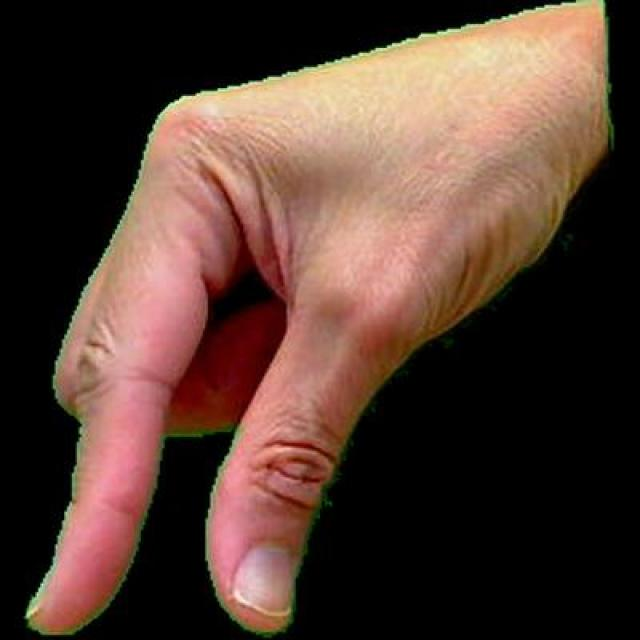q: (11, 0, 613, 637)
